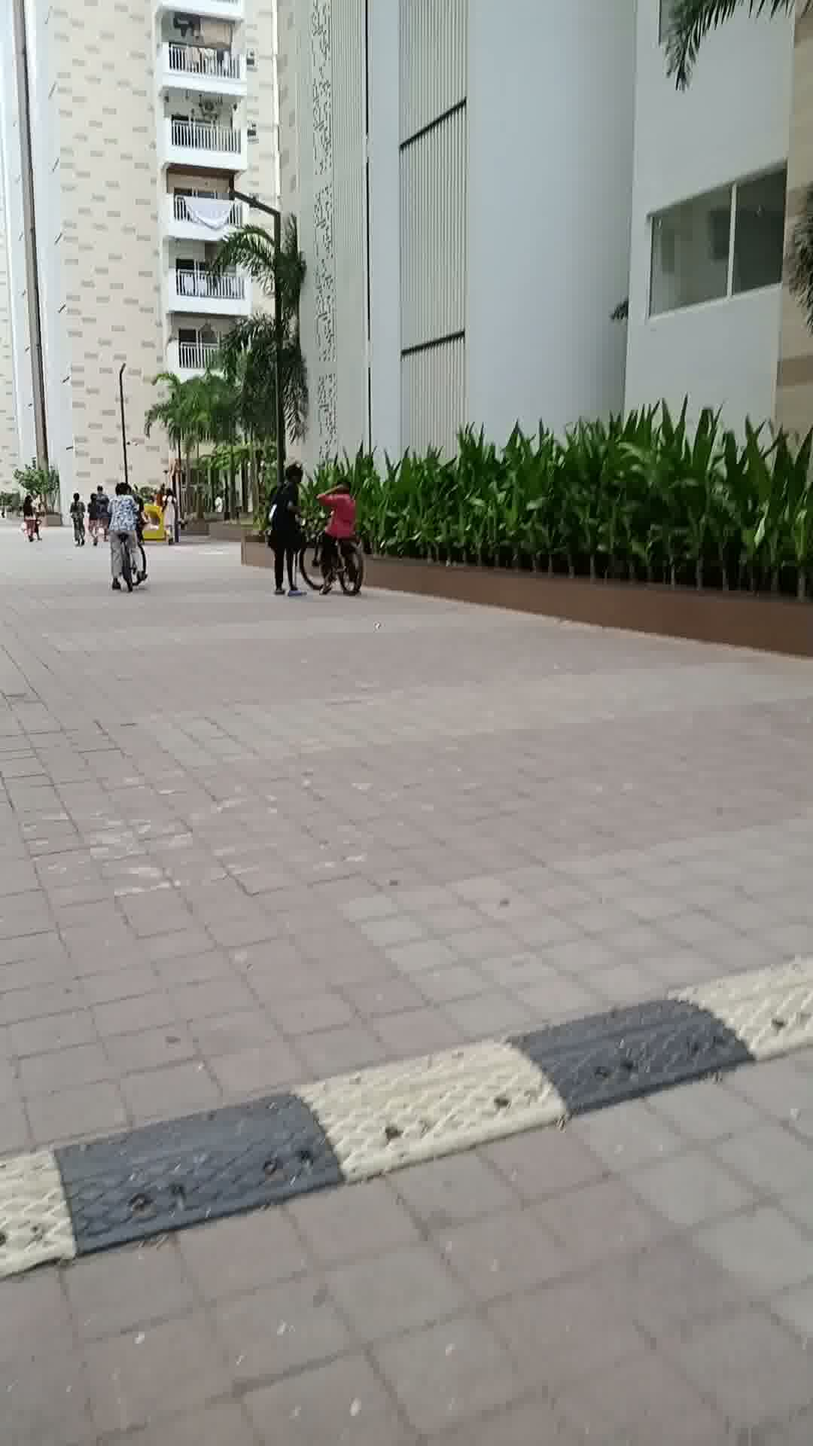bicycle: (291, 530, 367, 595)
person: (253, 457, 316, 598), (105, 478, 158, 609), (315, 461, 358, 593), (154, 482, 185, 548), (68, 479, 88, 548), (19, 489, 42, 545), (88, 486, 103, 554)
tree: (208, 220, 330, 496), (131, 353, 222, 518)
